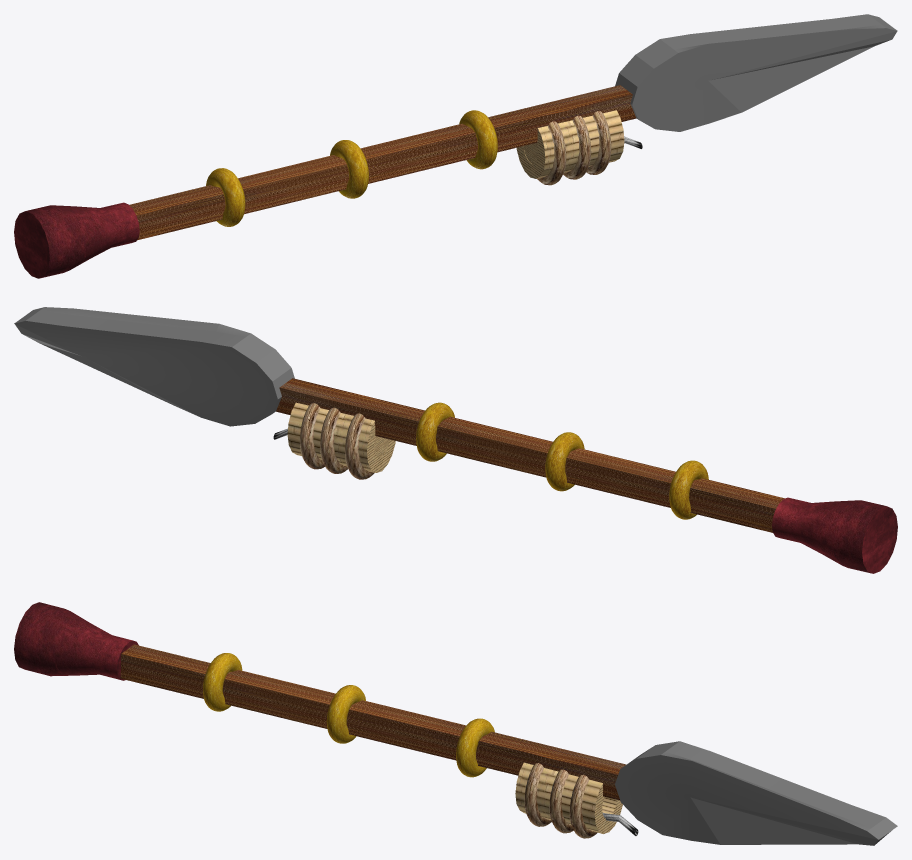
File: fire-lance.fbx
The picture shows the model from 3 angles, top to bottom: view 1: azimuth 30°, elevation 25°; view 2: azimuth 150°, elevation 25°; view 3: azimuth 330°, elevation 25°; orthographic projection.
Parts seen in each view (by area): view 1: Cylinder_2_2, Cube, Cylinder, Tube, Torus_3, Torus, Torus_2, Torus_1, Torus_4, Torus_5; view 2: Cylinder_2_2, Cube, Cylinder, Tube, Torus_3, Torus, Torus_2, Torus_1, Torus_4, Torus_5; view 3: Cylinder_2_2, Cube, Cylinder, Tube, Torus_3, Torus, Torus_2, Torus_1, Torus_5, Torus_4.
Boxes of the visible parts, x1,y1,x2,y2 form: Cylinder_2_2: (615,14,897,131); Cube: (129,85,636,240); Cylinder: (14,202,139,278); Tube: (516,110,624,178); Torus_3: (206,168,245,226); Torus: (330,140,368,198); Torus_2: (459,110,497,169); Torus_1: (537,121,566,185); Torus_4: (563,115,591,179); Torus_5: (586,111,611,174); Cylinder_2_2: (14,307,294,426); Cube: (276,378,784,532); Cylinder: (772,497,897,573); Tube: (287,402,395,472); Torus_3: (669,460,708,519); Torus: (545,432,584,491); Torus_2: (416,402,454,461); Torus_1: (345,413,374,479); Torus_4: (320,407,347,473); Torus_5: (300,403,324,469); Cylinder_2_2: (615,741,897,845); Cube: (120,644,626,800); Cylinder: (14,602,138,680); Tube: (515,762,622,833); Torus_3: (203,653,242,711); Torus: (326,685,365,743); Torus_2: (456,718,494,777); Torus_1: (524,763,551,826); Torus_5: (569,774,597,838); Torus_4: (549,769,573,833).
Size of the model in its own units: 5.42 by 0.6603 by 0.3937.
7 materials, 6 textured.
